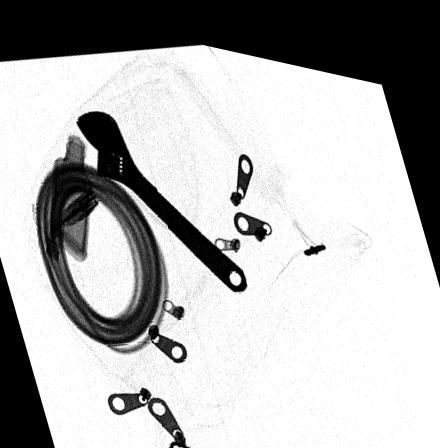Wrench: (75, 106, 247, 283)
